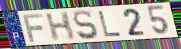2: (123, 7, 150, 38)
5: (145, 4, 170, 37)
F: (22, 13, 45, 44)
H: (44, 10, 77, 42)
L: (97, 10, 123, 38)
S: (72, 9, 100, 41)
